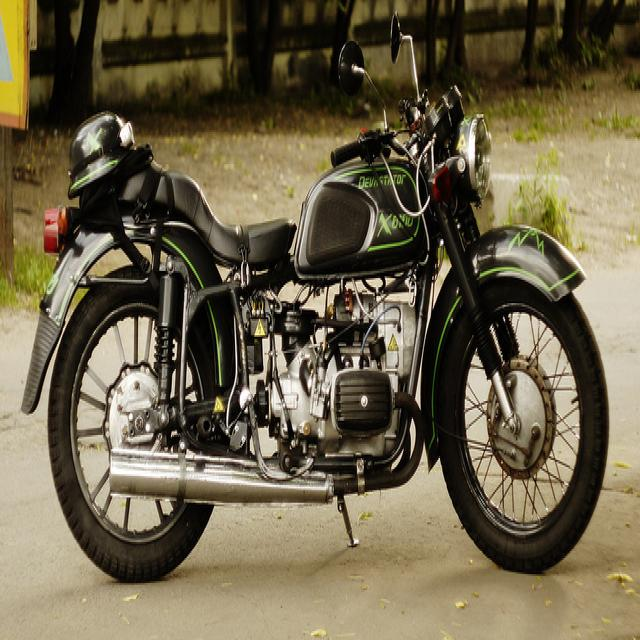motor: (24, 6, 612, 590)
